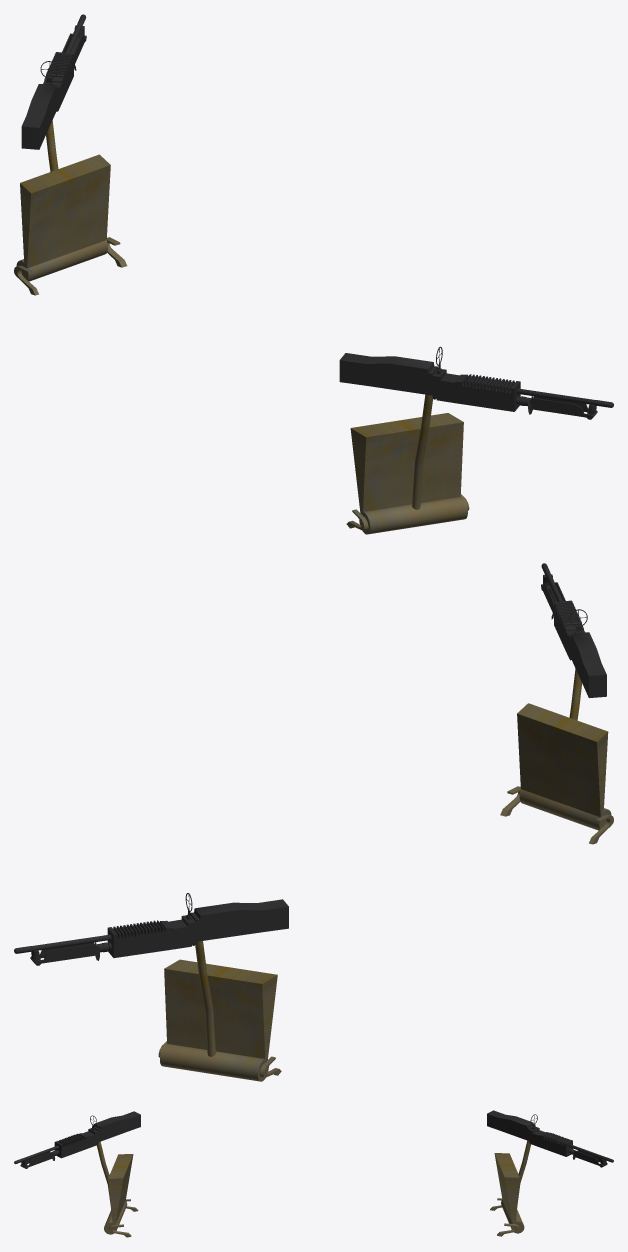
The picture shows the model from 3 angles, top to bottom: view 1: azimuth 30°, elevation 25°; view 2: azimuth 150°, elevation 25°; view 3: azimuth 270°, elevation 25°; orthographic projection. The views are drawn at different scales.
Visible parts, largest first — view 1: m60 bipod; view 2: m60 bipod; view 3: m60 bipod.
Boxes of the visible parts, bbox=[...] form: m60 bipod: bbox=[14, 14, 613, 534]; m60 bipod: bbox=[14, 563, 613, 1081]; m60 bipod: bbox=[14, 1110, 613, 1237].
Bounding box in the file's own units: 0.8968 × 0.9855 × 4.84.
Materials: 4 (1 with a texture image).
